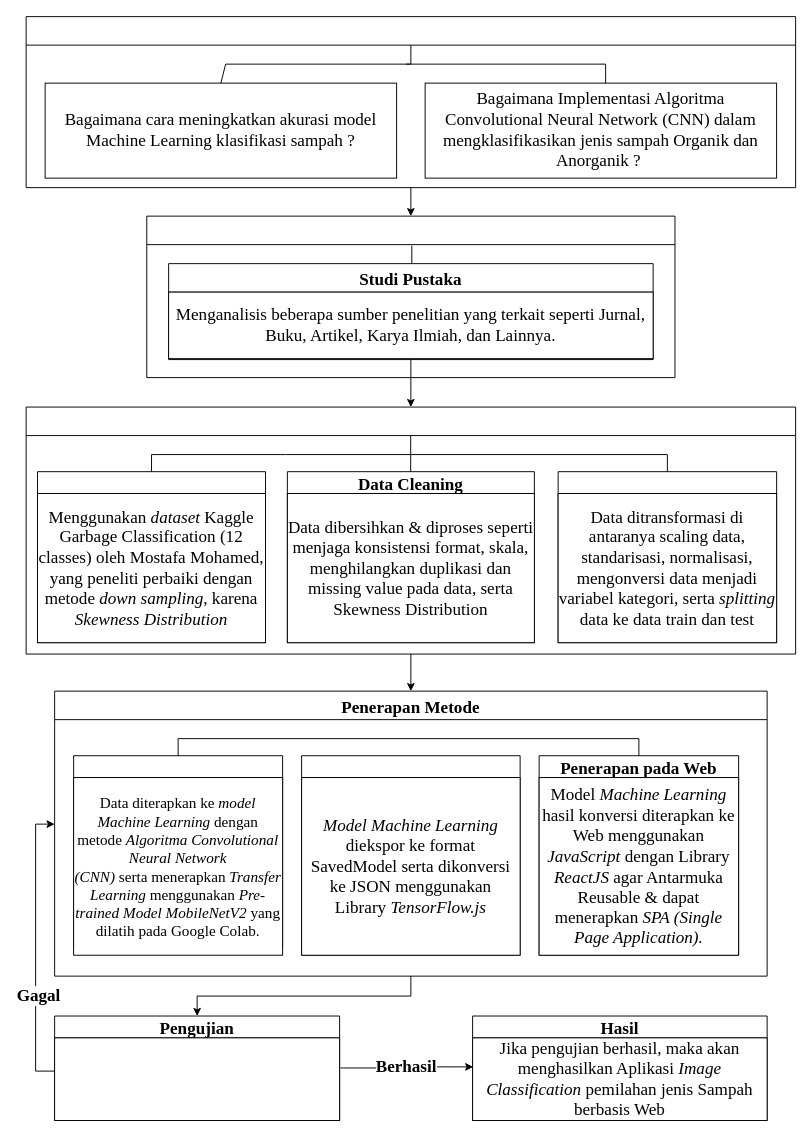
The diagram is 812 pixels wide and 1137 high, and some of its shapes have lost their labels. The shapes that lost their labels are listed below. From the top down, each one's box as (x1, y1, x2, y2) in pixels, then its label:
(25, 16, 796, 188): Masalah
(146, 215, 675, 378): Pengumpulan Data
(25, 406, 796, 654): Pengelolaan Data Awal
(37, 471, 266, 643): Data Collecting
(557, 471, 777, 643): Data Transformation
(73, 755, 283, 948): Pembuatan Model
(301, 755, 520, 955): Ekspor dan Konversi Model
(54, 1037, 340, 1121): Aplikasi diuji menggunakan Pengujian Black Box, dan Angket Responden
